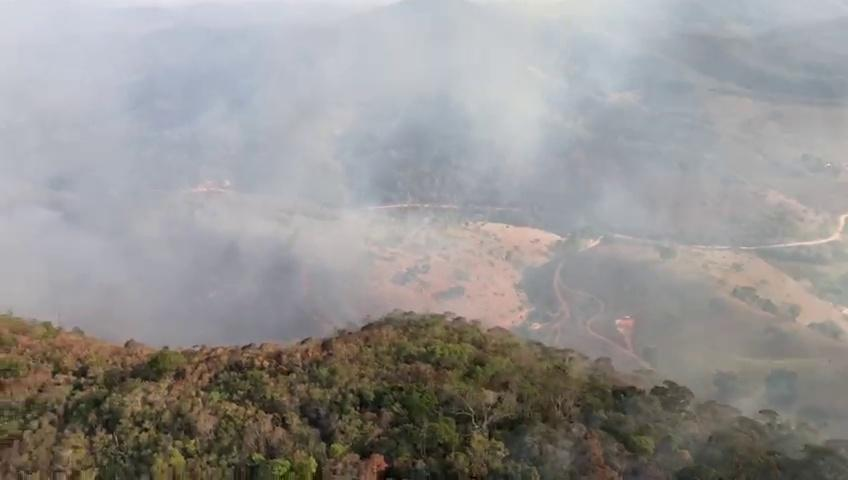smoke: (463, 33, 602, 151)
